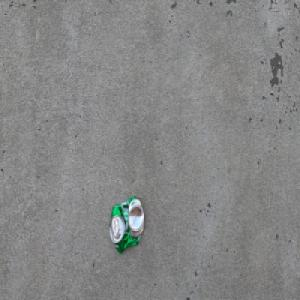SodaCan: (108, 195, 144, 255)
